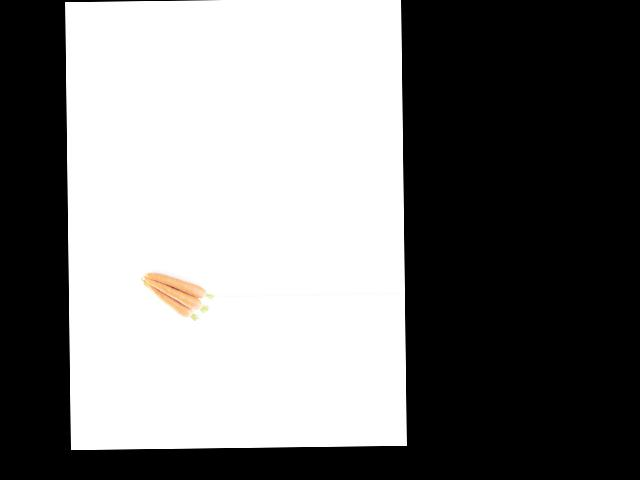carrot: (147, 272, 204, 300)
